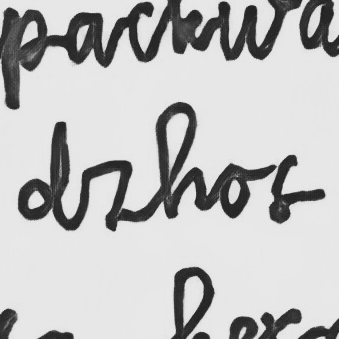d: (14, 120, 74, 232)
h: (152, 99, 211, 221)
o: (215, 159, 252, 220)
s: (264, 153, 301, 225)
z: (77, 155, 139, 233)
